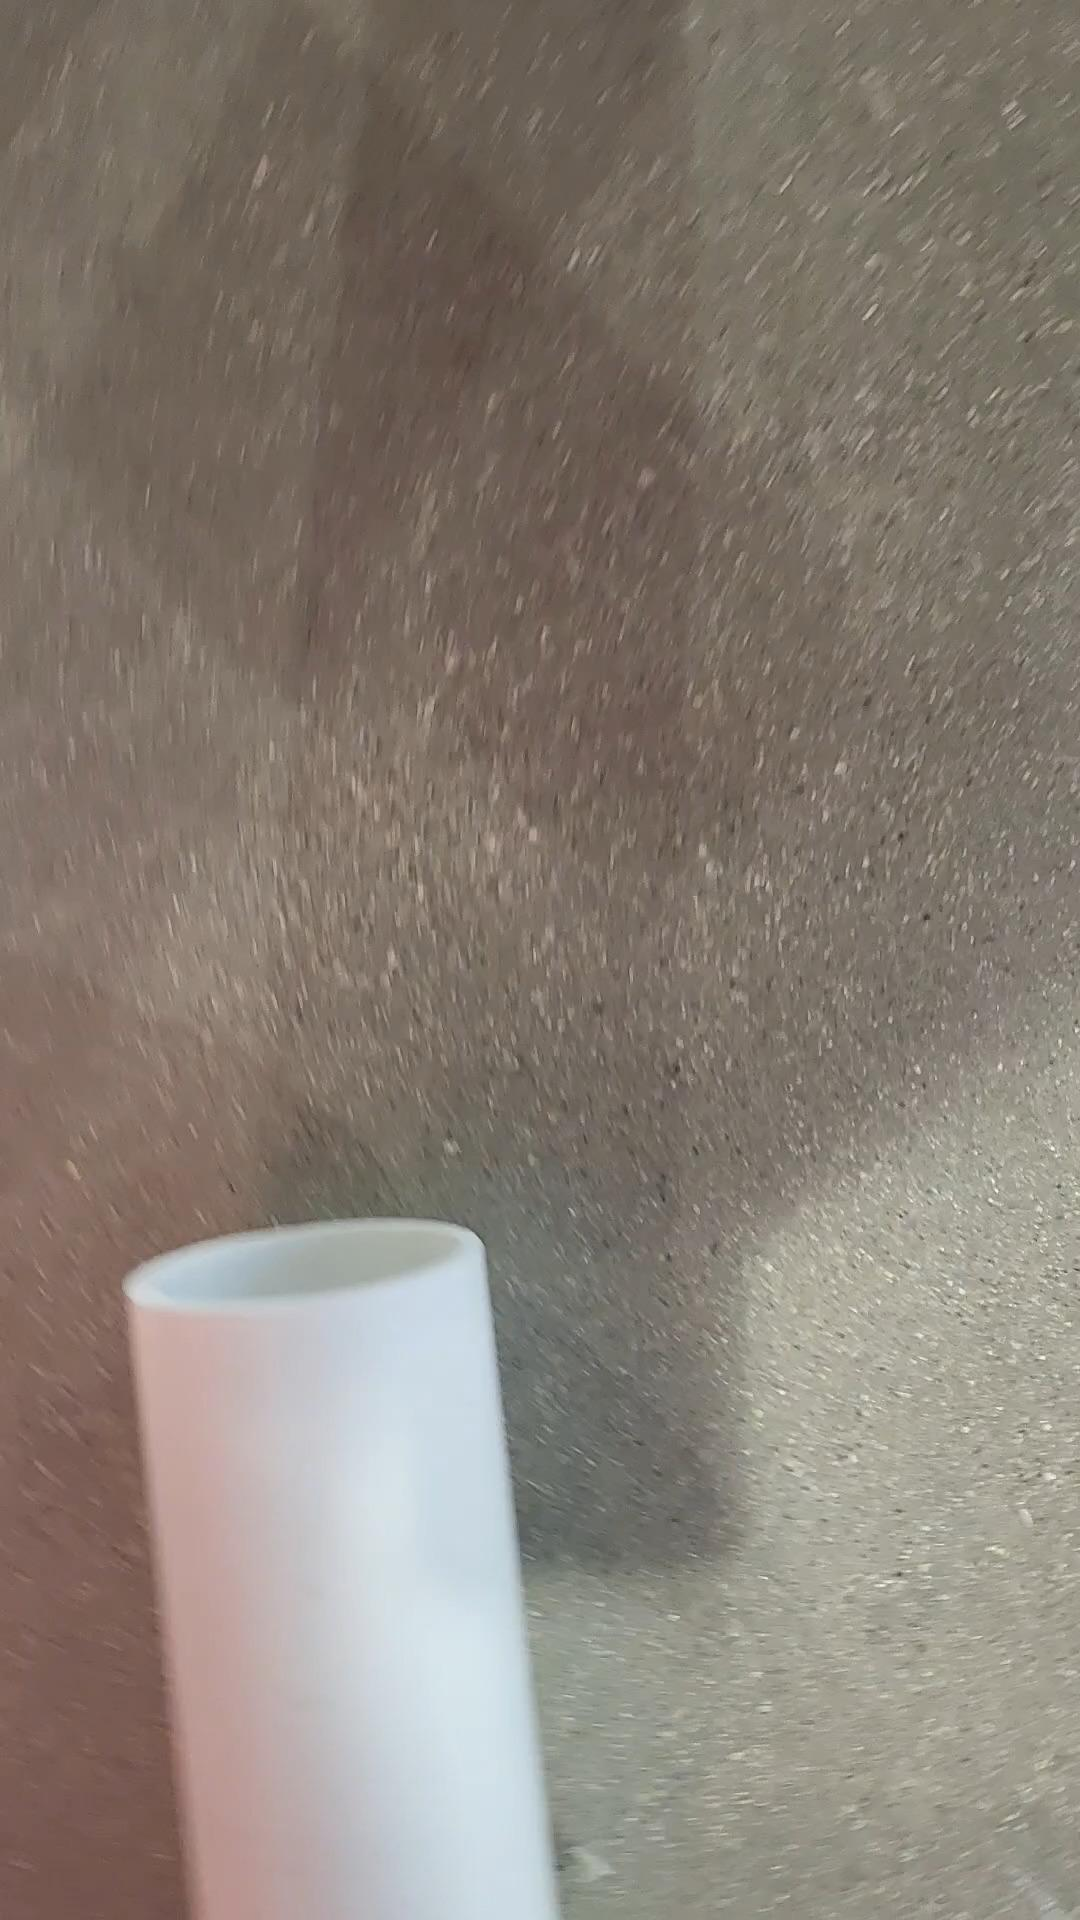coral: (128, 1220, 564, 1920)
